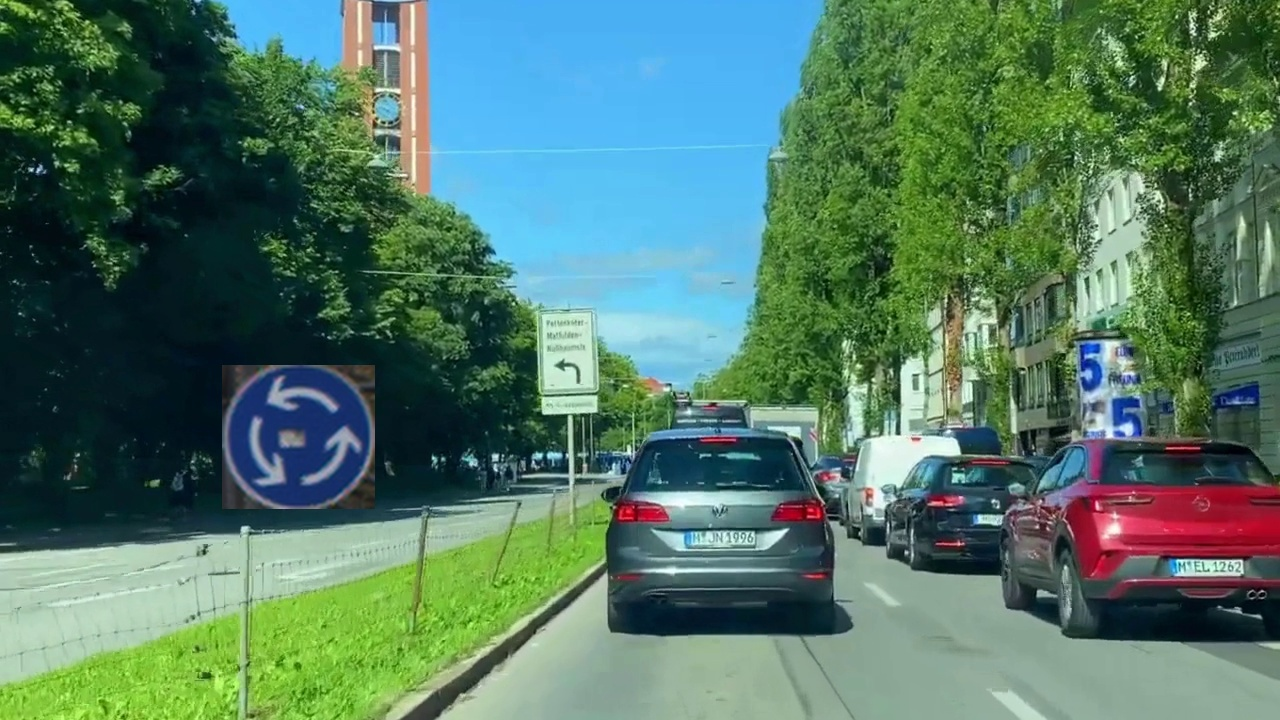Roundabout: (222, 365, 375, 509)
